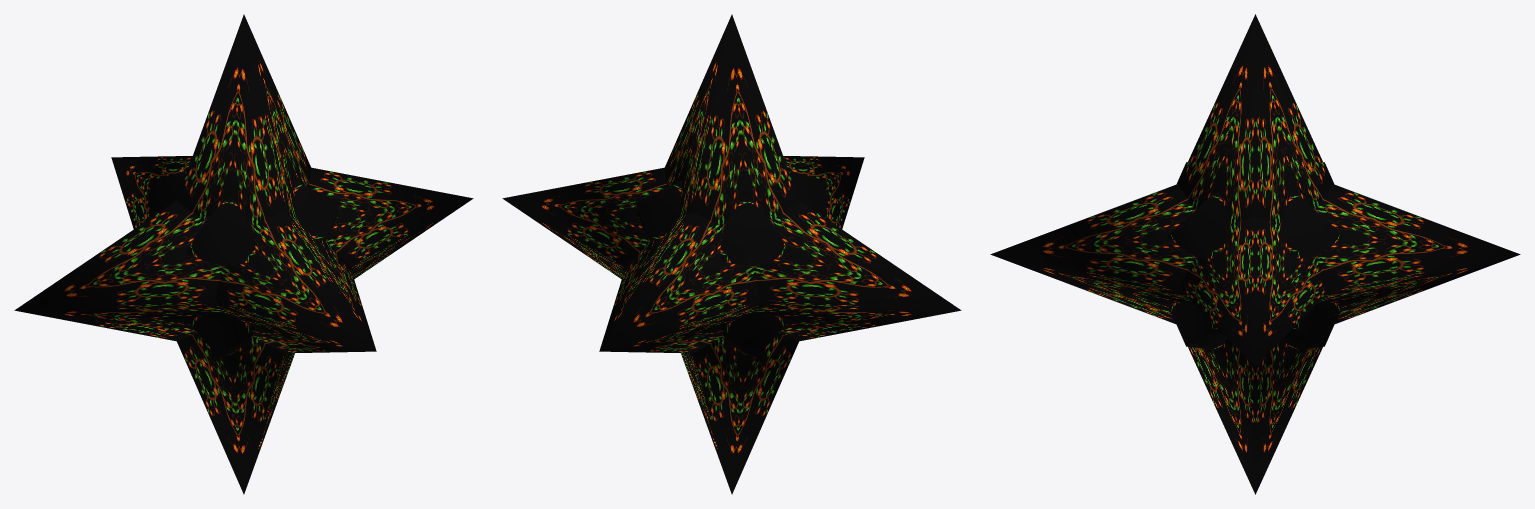
The model's file is 30GreatHexacronicIcositetrahedron.gltf.
The picture shows the model from 3 angles, left to right: view 1: azimuth 30°, elevation 25°; view 2: azimuth 150°, elevation 25°; view 3: azimuth 270°, elevation 25°; orthographic projection.
Visible parts, largest first — view 1: GreatHexacronicIcositetrahedron9; view 2: GreatHexacronicIcositetrahedron9; view 3: GreatHexacronicIcositetrahedron9.
Part boxes in pixels (x1=…): GreatHexacronicIcositetrahedron9: x1=14, y1=14, x2=473, y2=494; GreatHexacronicIcositetrahedron9: x1=502, y1=14, x2=961, y2=494; GreatHexacronicIcositetrahedron9: x1=990, y1=14, x2=1520, y2=494.
Size of the model in its own units: 2.83 by 2.83 by 2.83.
Materials: 1 (1 with a texture image).
